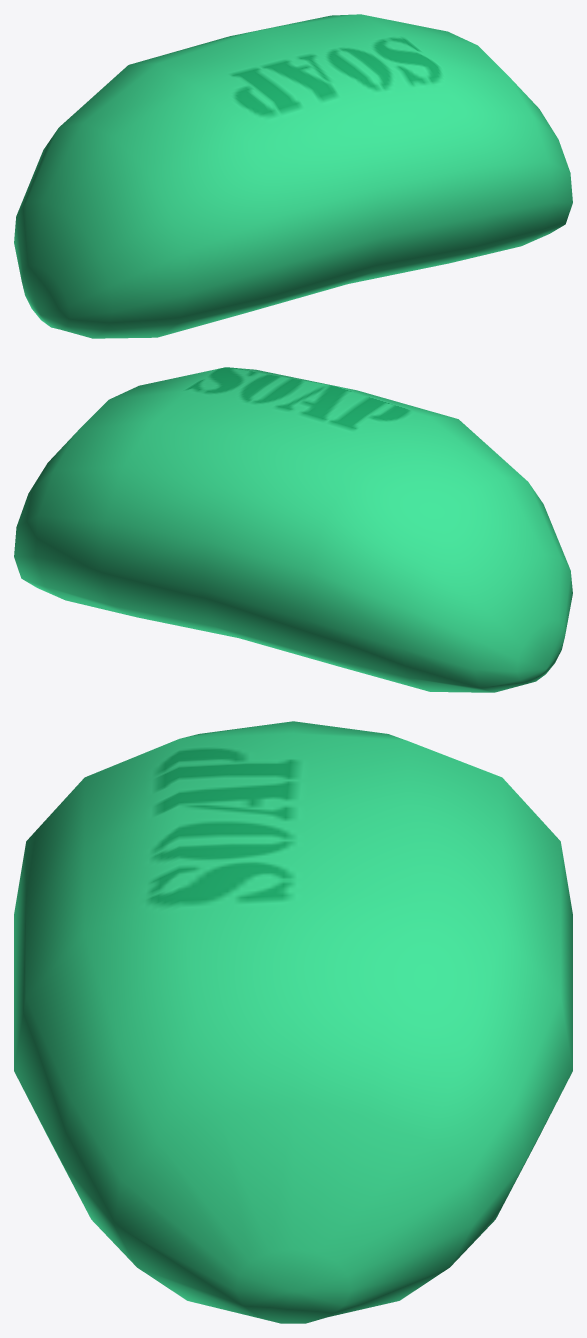
File: Soapbar_Final.FBX
3 views of the same model, one above another, from view 1: azimuth 30°, elevation 25°; view 2: azimuth 150°, elevation 25°; view 3: azimuth 270°, elevation 25° (orthographic). The views are drawn at different scales.
Visible parts, largest first — view 1: Cylinder001; view 2: Cylinder001; view 3: Cylinder001.
Part boxes in pixels (box(x1,y1,x2,y2)): Cylinder001: box(14, 14, 572, 338); Cylinder001: box(14, 367, 572, 692); Cylinder001: box(14, 721, 572, 1323).
Size of the model in its own units: 20.32 by 8 by 12.23.
1 material, 1 textured.
